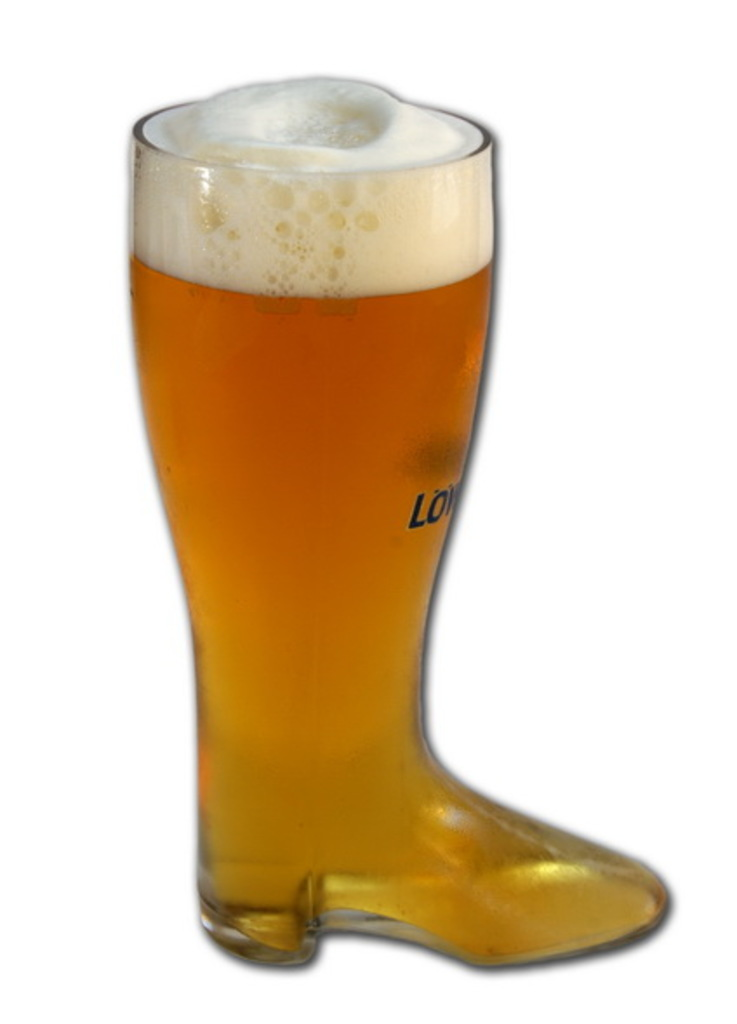Beer: (123, 69, 678, 971)
